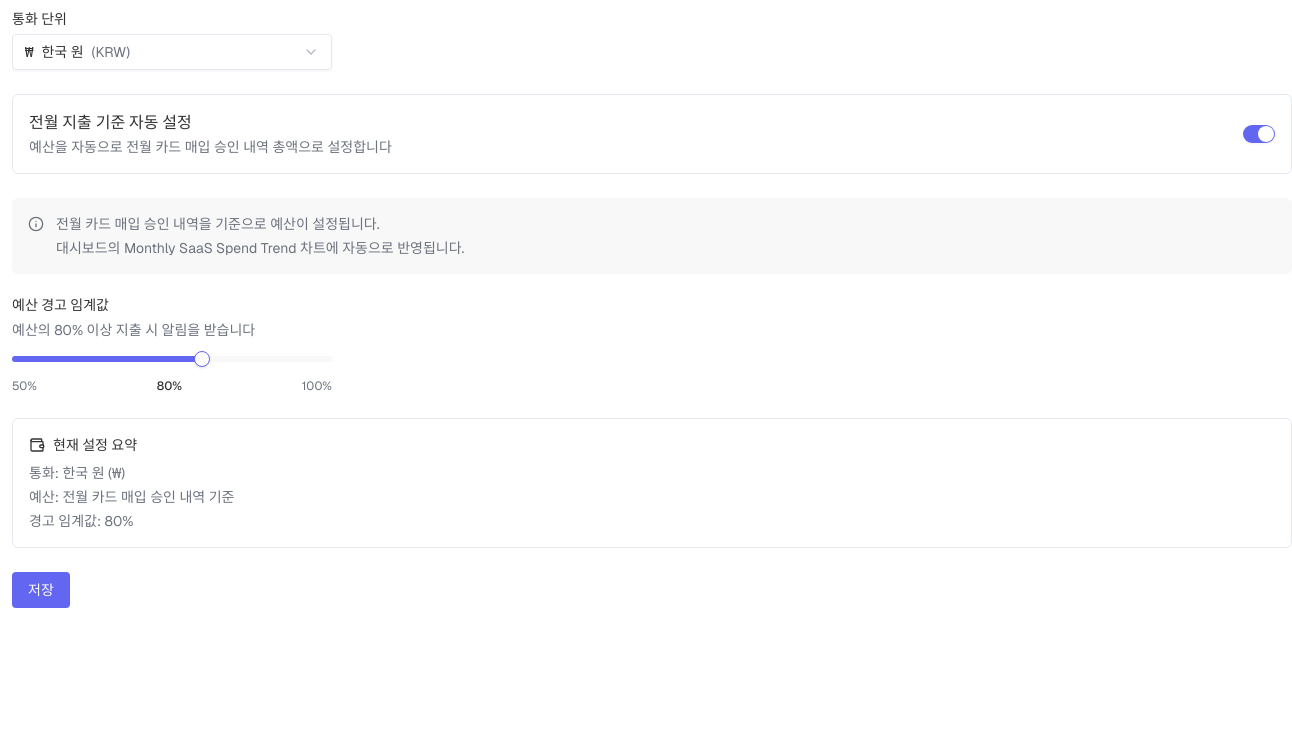
it: BudgetSettingsForm › should toggle auto budget mode
토글을 끄면 예산 입력 필드가 나타남
Click the switch: [1259, 134] box [1243, 125, 1275, 143]
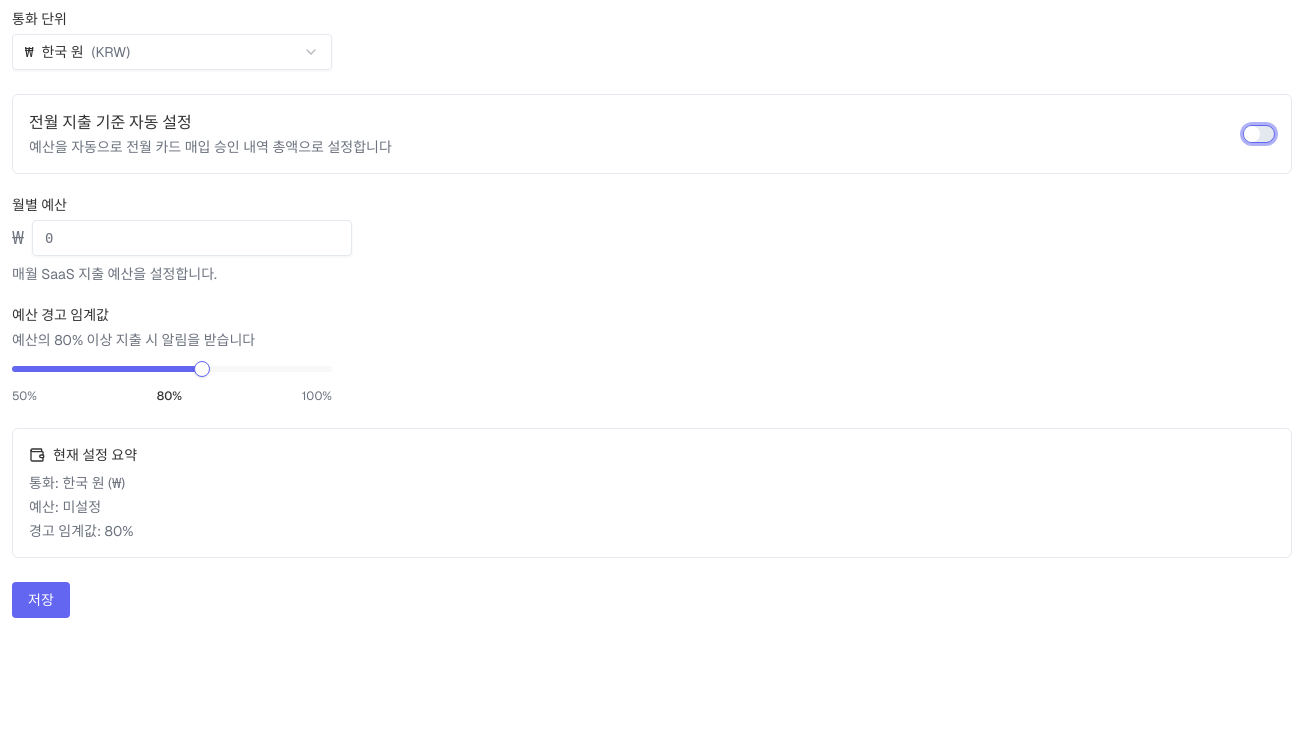
Expected: the switch is not checked, [1243, 125, 1275, 143]
Expected: the field labelled "월별 예산" is shown, [32, 220, 352, 256]
